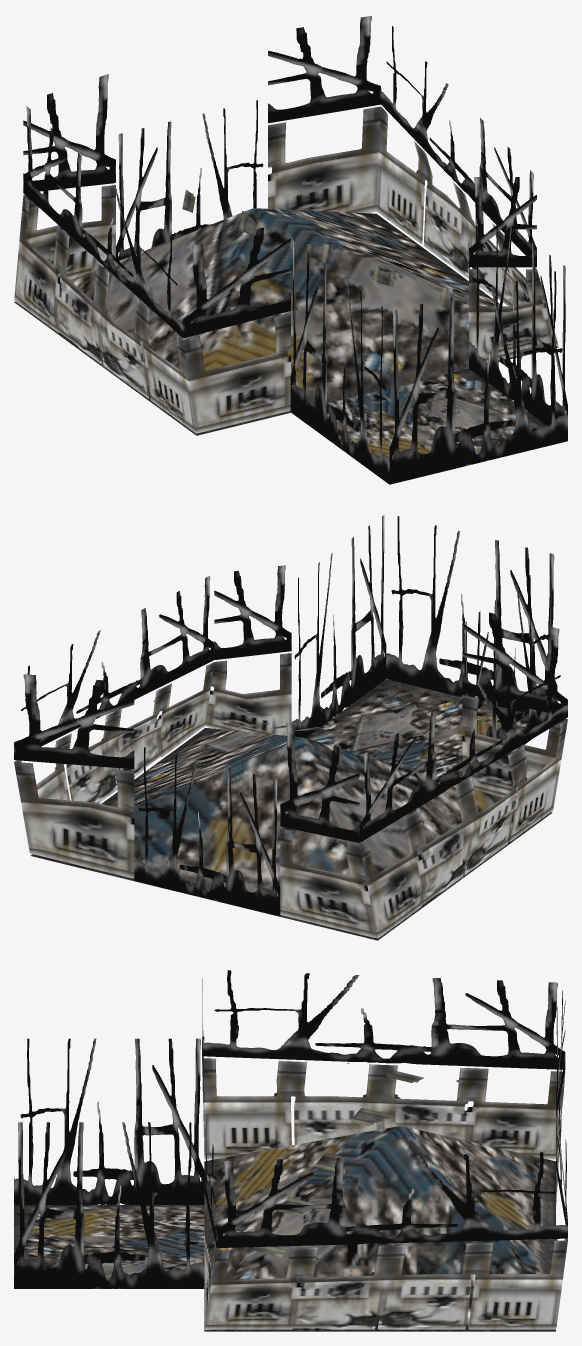
The model's file is s_main_rightwing_dam.glb.
The picture shows the model from 3 angles, top to bottom: view 1: azimuth 30°, elevation 25°; view 2: azimuth 150°, elevation 25°; view 3: azimuth 270°, elevation 25°; orthographic projection. The views are drawn at different scales.
Parts seen in each view (by area): view 1: S_HC_Rightwing; view 2: S_HC_Rightwing; view 3: S_HC_Rightwing.
Boxes of the visible parts, x1,y1,x2,y2 form: S_HC_Rightwing: [14, 15, 567, 484]; S_HC_Rightwing: [14, 515, 567, 940]; S_HC_Rightwing: [14, 970, 567, 1331].
Size of the model in its own units: 16.65 by 8.5 by 21.38.
Materials: 3 (3 with a texture image).
